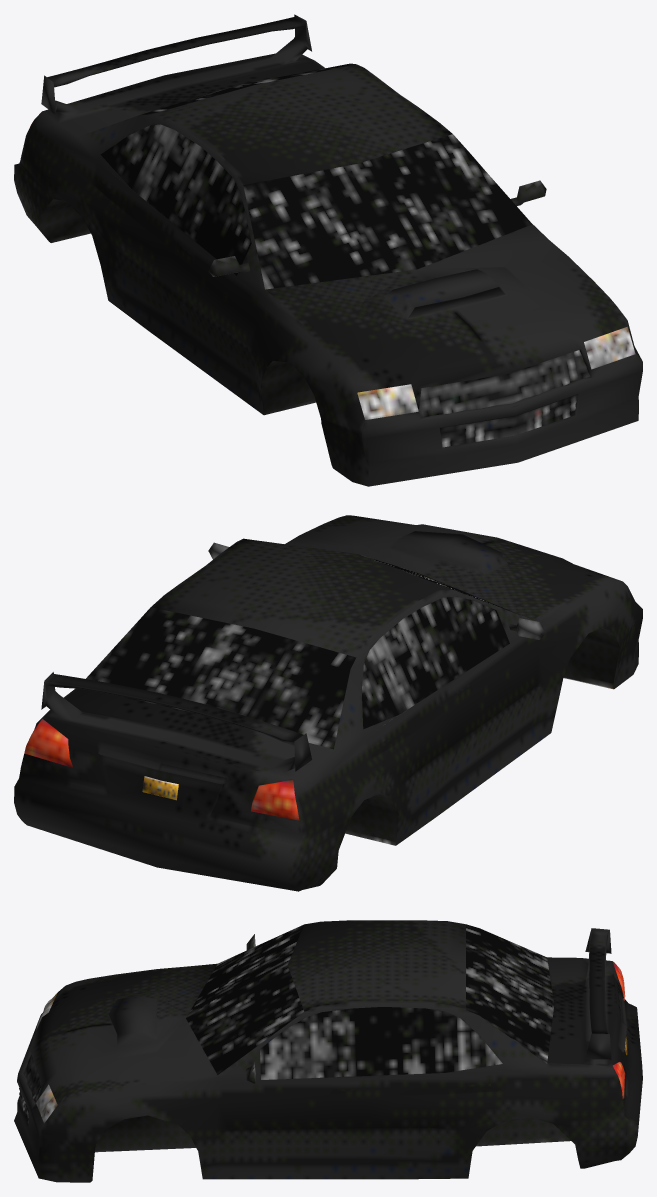
File: wrx sti.fbx
3 views of the same model, one above another, from view 1: azimuth 30°, elevation 25°; view 2: azimuth 150°, elevation 25°; view 3: azimuth 270°, elevation 25° (orthographic). The views are drawn at different scales.
Parts seen in each view (by area): view 1: wrx sti; view 2: wrx sti; view 3: wrx sti.
Part boxes in pixels (x1,y1,x2,y2): wrx sti: (14,14,642,486); wrx sti: (14,515,642,891); wrx sti: (14,920,642,1182).
Size of the model in its own units: 3.29 by 1.82 by 6.21.
